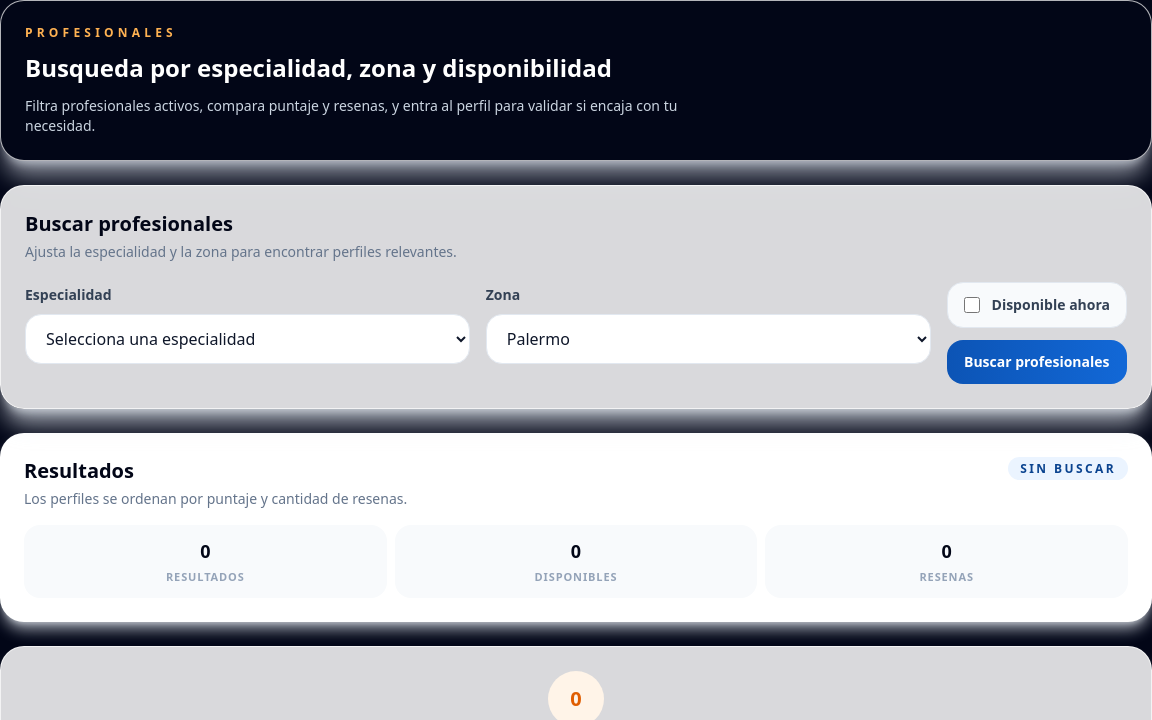
Test: ProfessionalsPage › muestra un estado vacio cuando no hay profesionales disponibles
Step 1. Select "Plomeria" in the dropdown labelled "Especialidad" → [247, 339], box top-left (25, 314), bottom-right (470, 364)
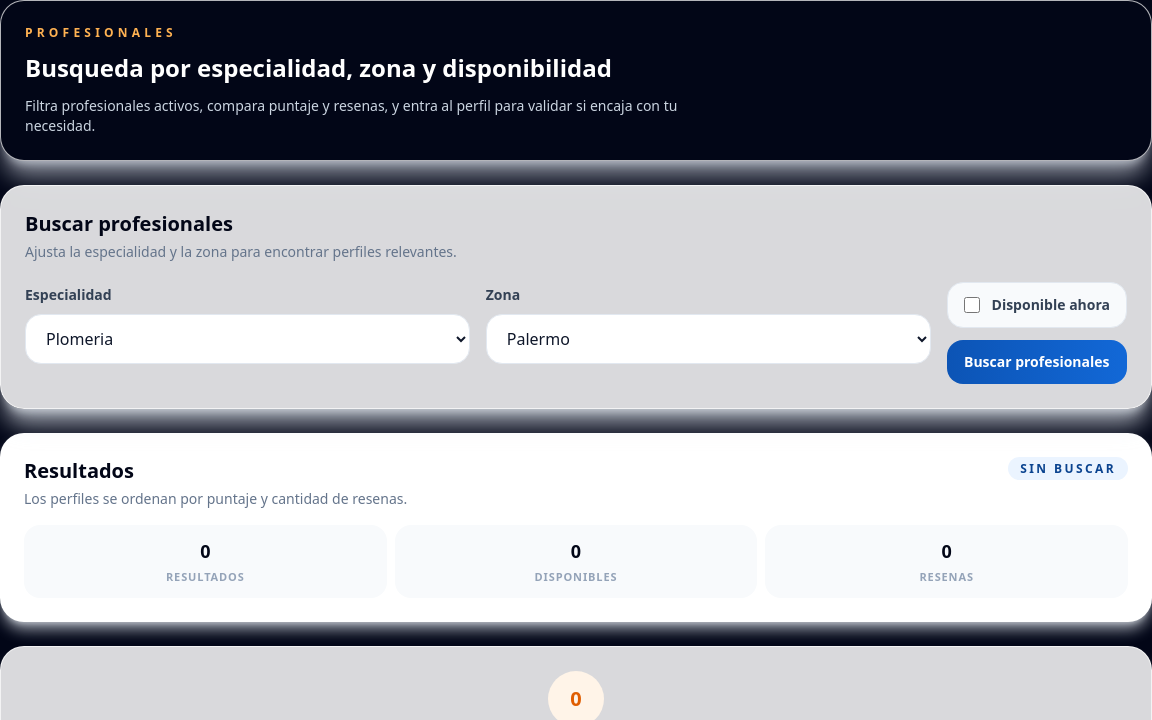
Step 2. Click the button "Buscar profesionales" → [1037, 362], box top-left (946, 340), bottom-right (1127, 384)
(page scrolled)
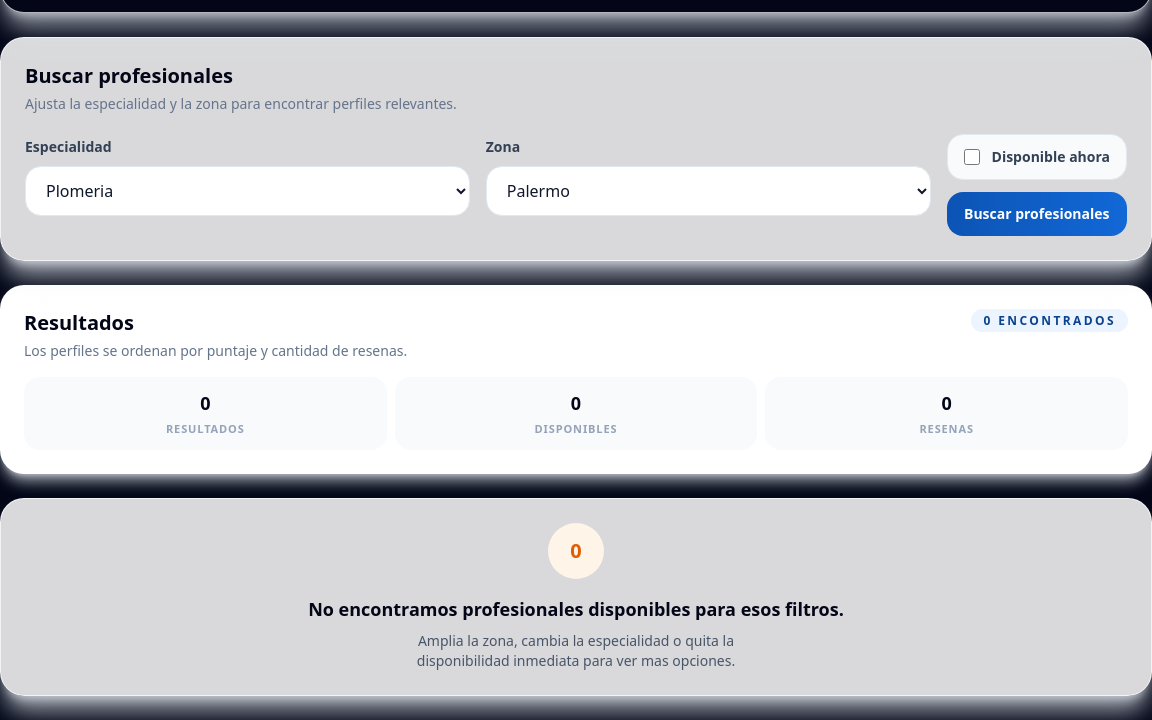
Now the heading "No encontramos profesionales disponibles para esos filtros." is shown, box top-left (308, 596), bottom-right (844, 620)
